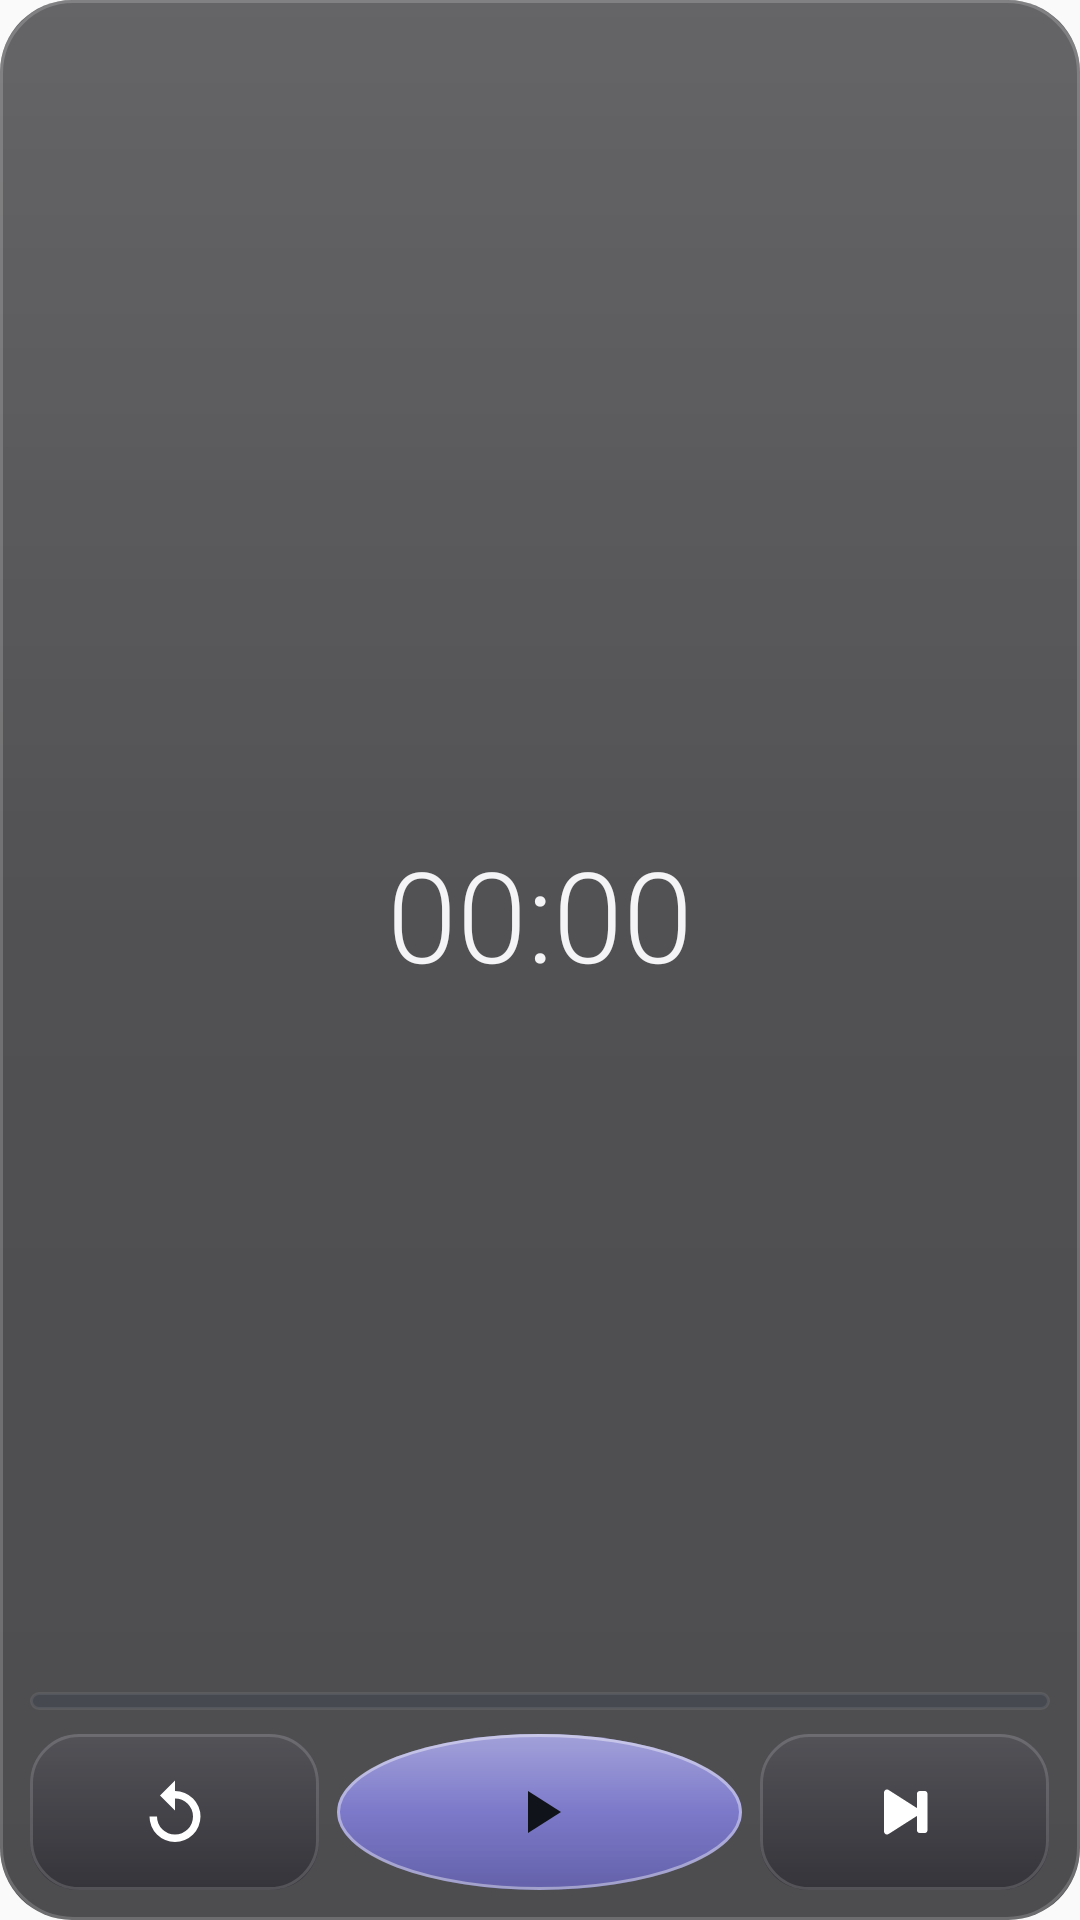

Named icons in this screenshot (1080*1920) and their centers, (x=x, y=y):
Reiniciar: (x=174, y=1810)
Saltar vuelta: (x=904, y=1810)
